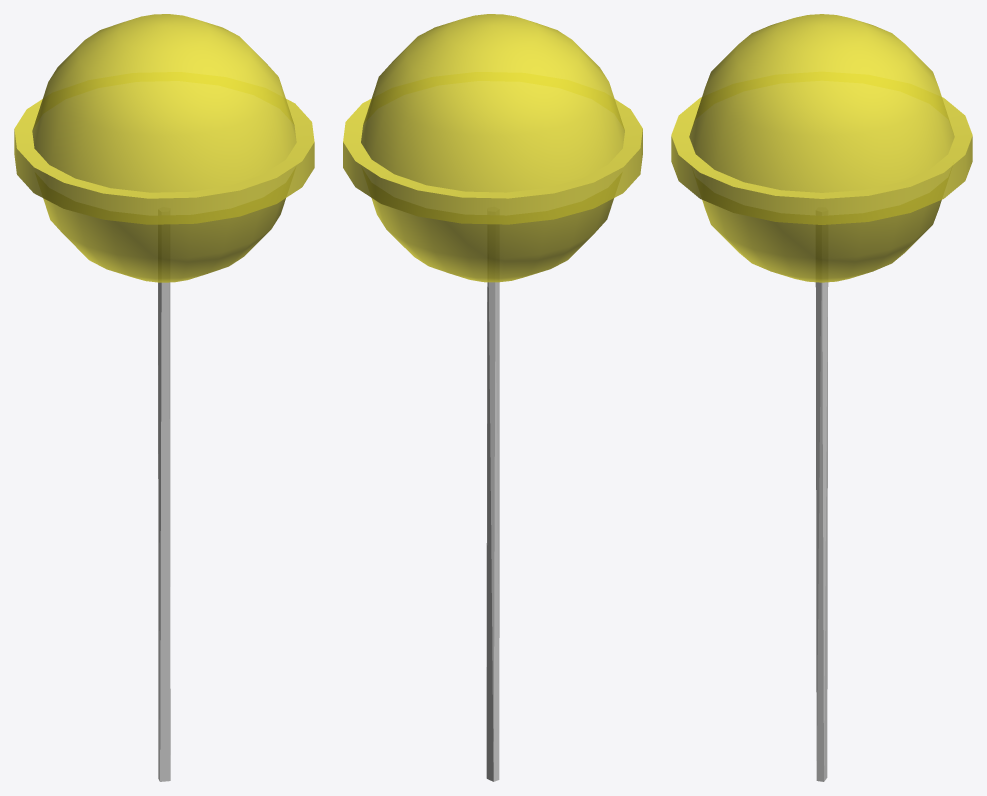
Rendered from lollipop-plant-yellow.glb.
The picture shows the model from 3 angles, left to right: view 1: azimuth 30°, elevation 25°; view 2: azimuth 150°, elevation 25°; view 3: azimuth 270°, elevation 25°; orthographic projection.
Visible parts, largest first — view 1: lollipop-plant-yellow; view 2: lollipop-plant-yellow; view 3: lollipop-plant-yellow.
Boxes of the visible parts, x1,y1,x2,y2 form: lollipop-plant-yellow: (14, 14, 314, 781); lollipop-plant-yellow: (343, 14, 642, 781); lollipop-plant-yellow: (671, 14, 972, 781).
Size of what is drawn, in the model's own units: 0.5415 by 1.49 by 0.5415.
